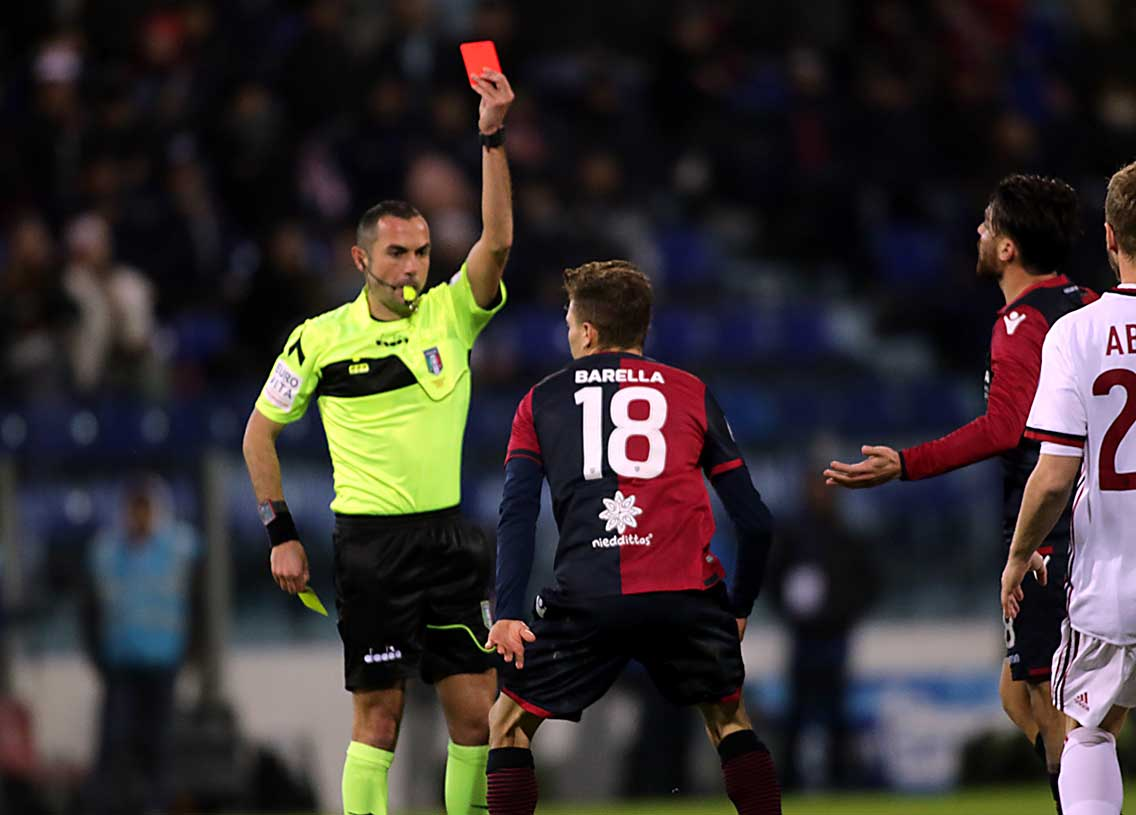red_card: (443, 32, 523, 138)
